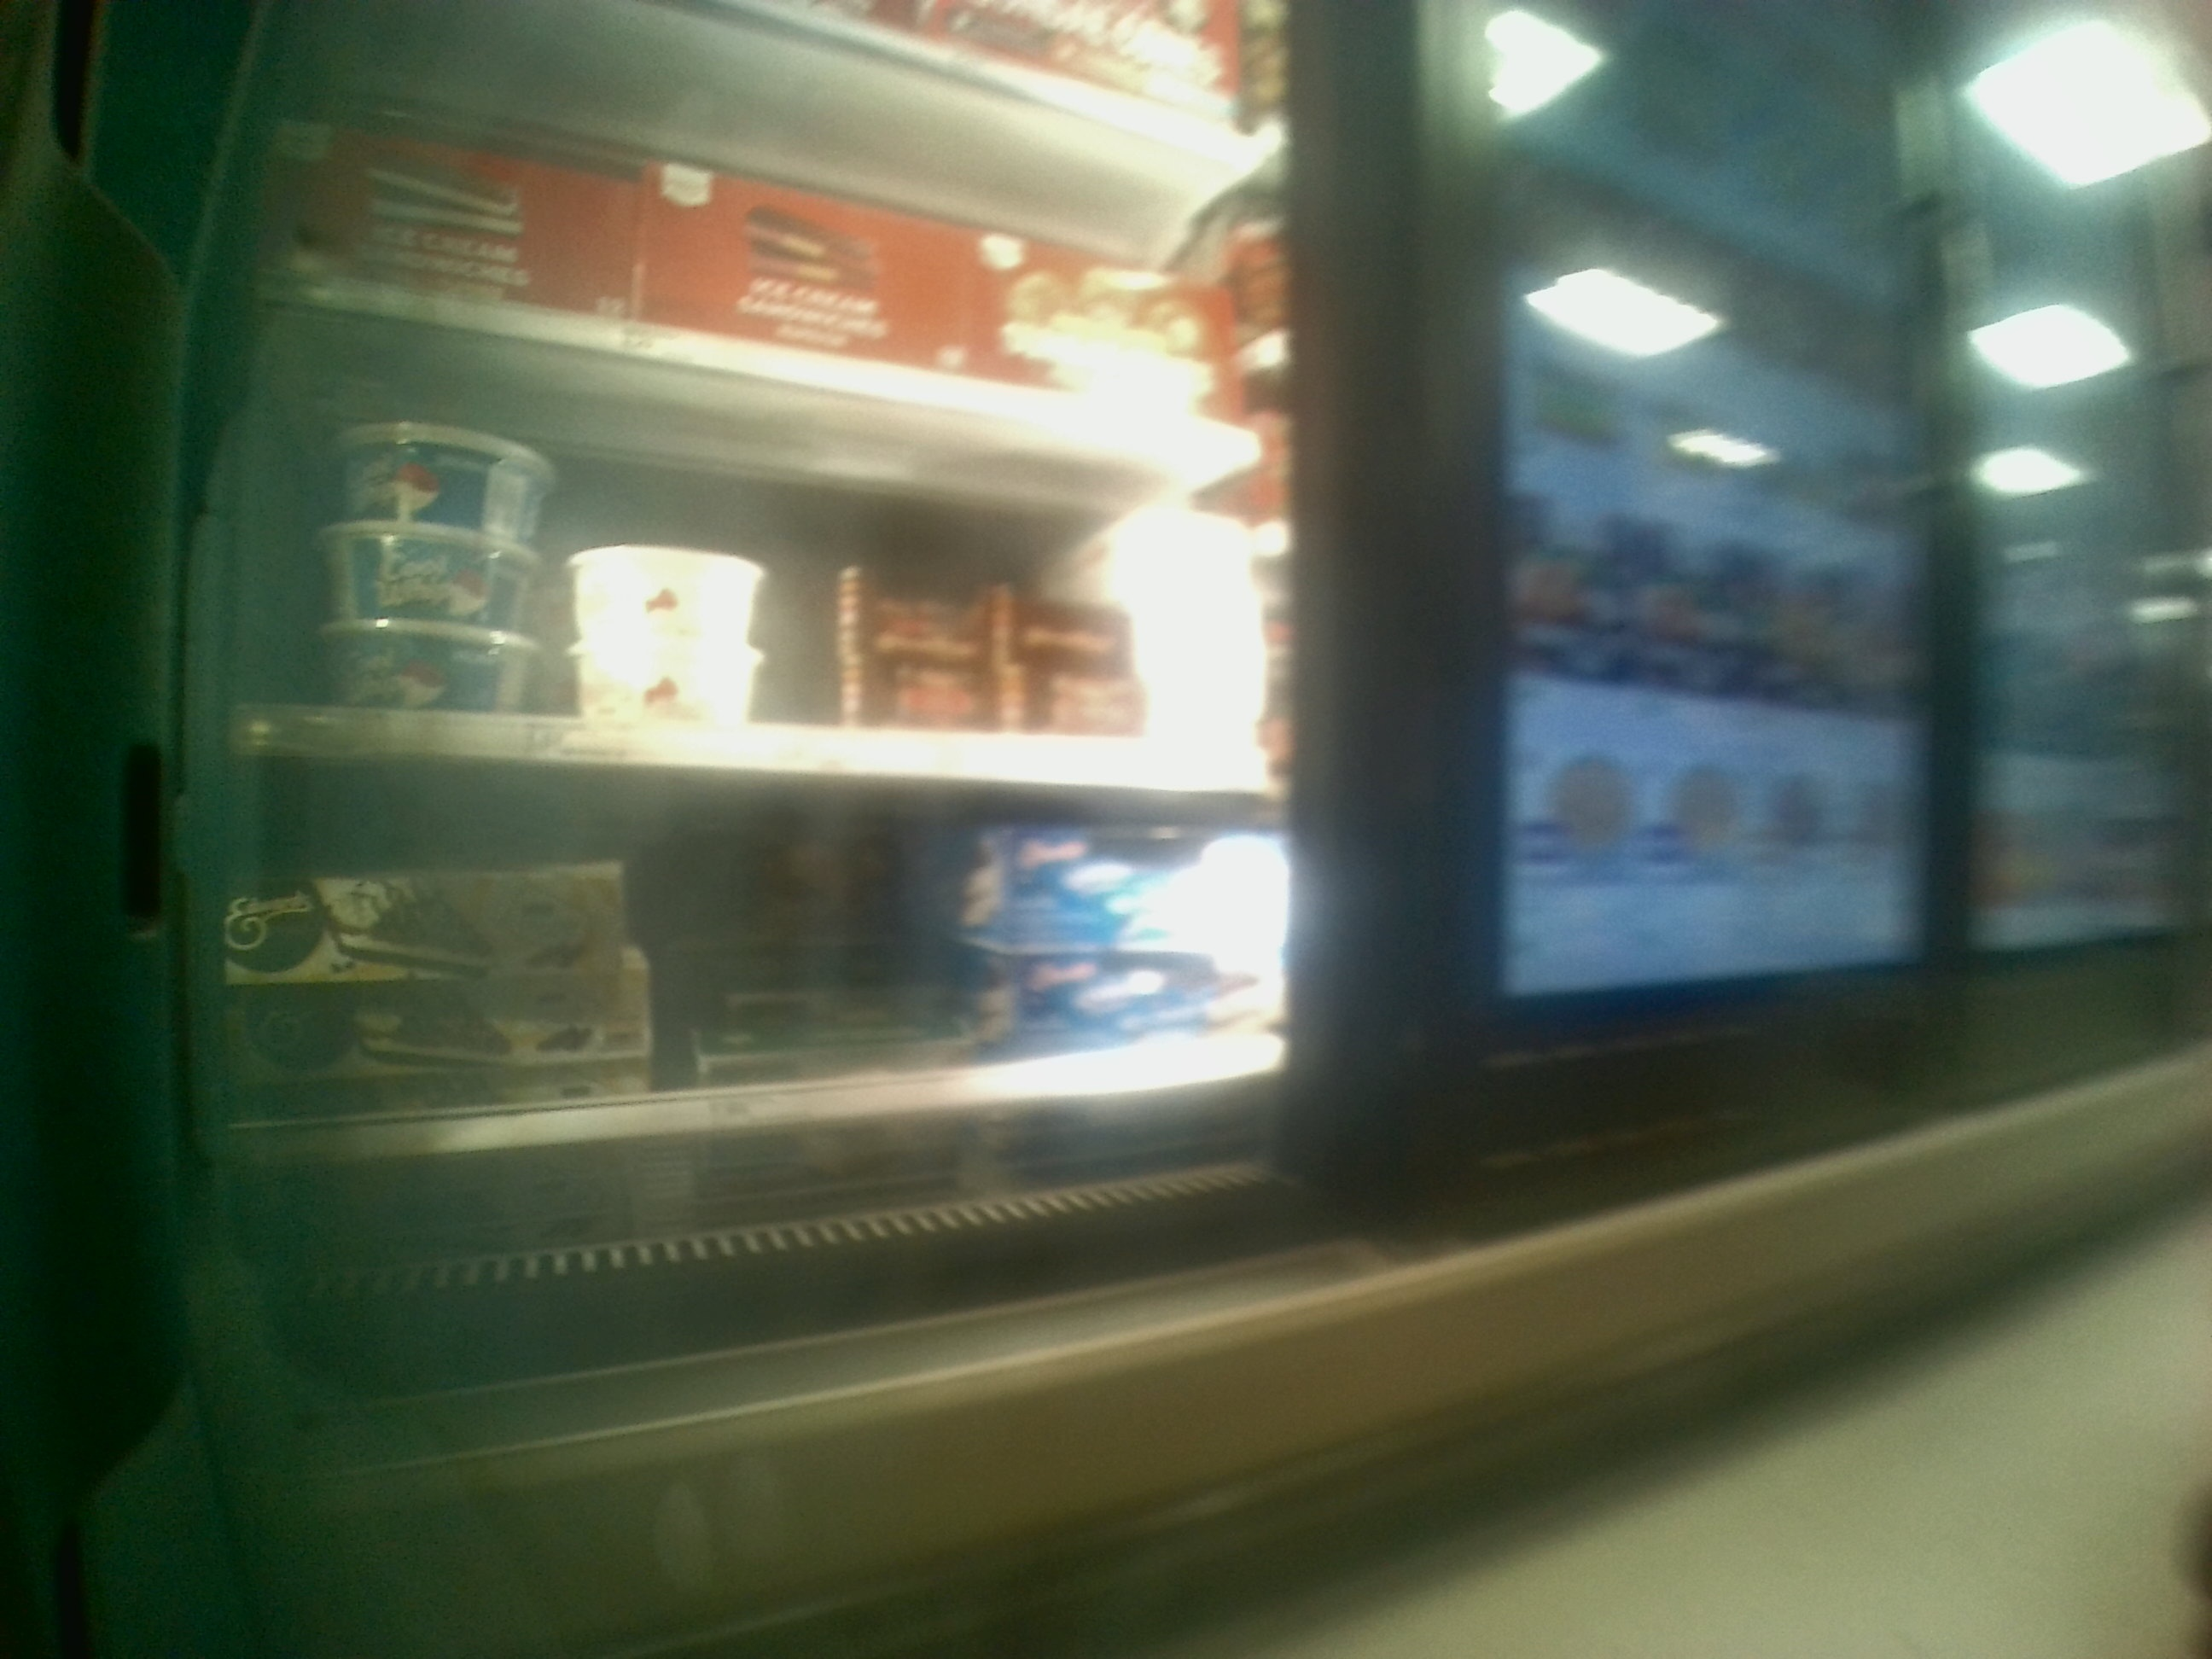shelf: (254, 305, 1294, 791), (239, 753, 1294, 1178)
